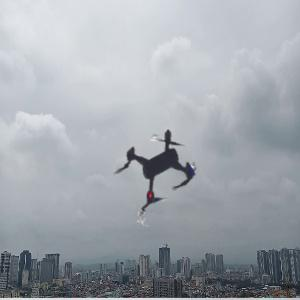drone: (73, 81, 242, 250)
